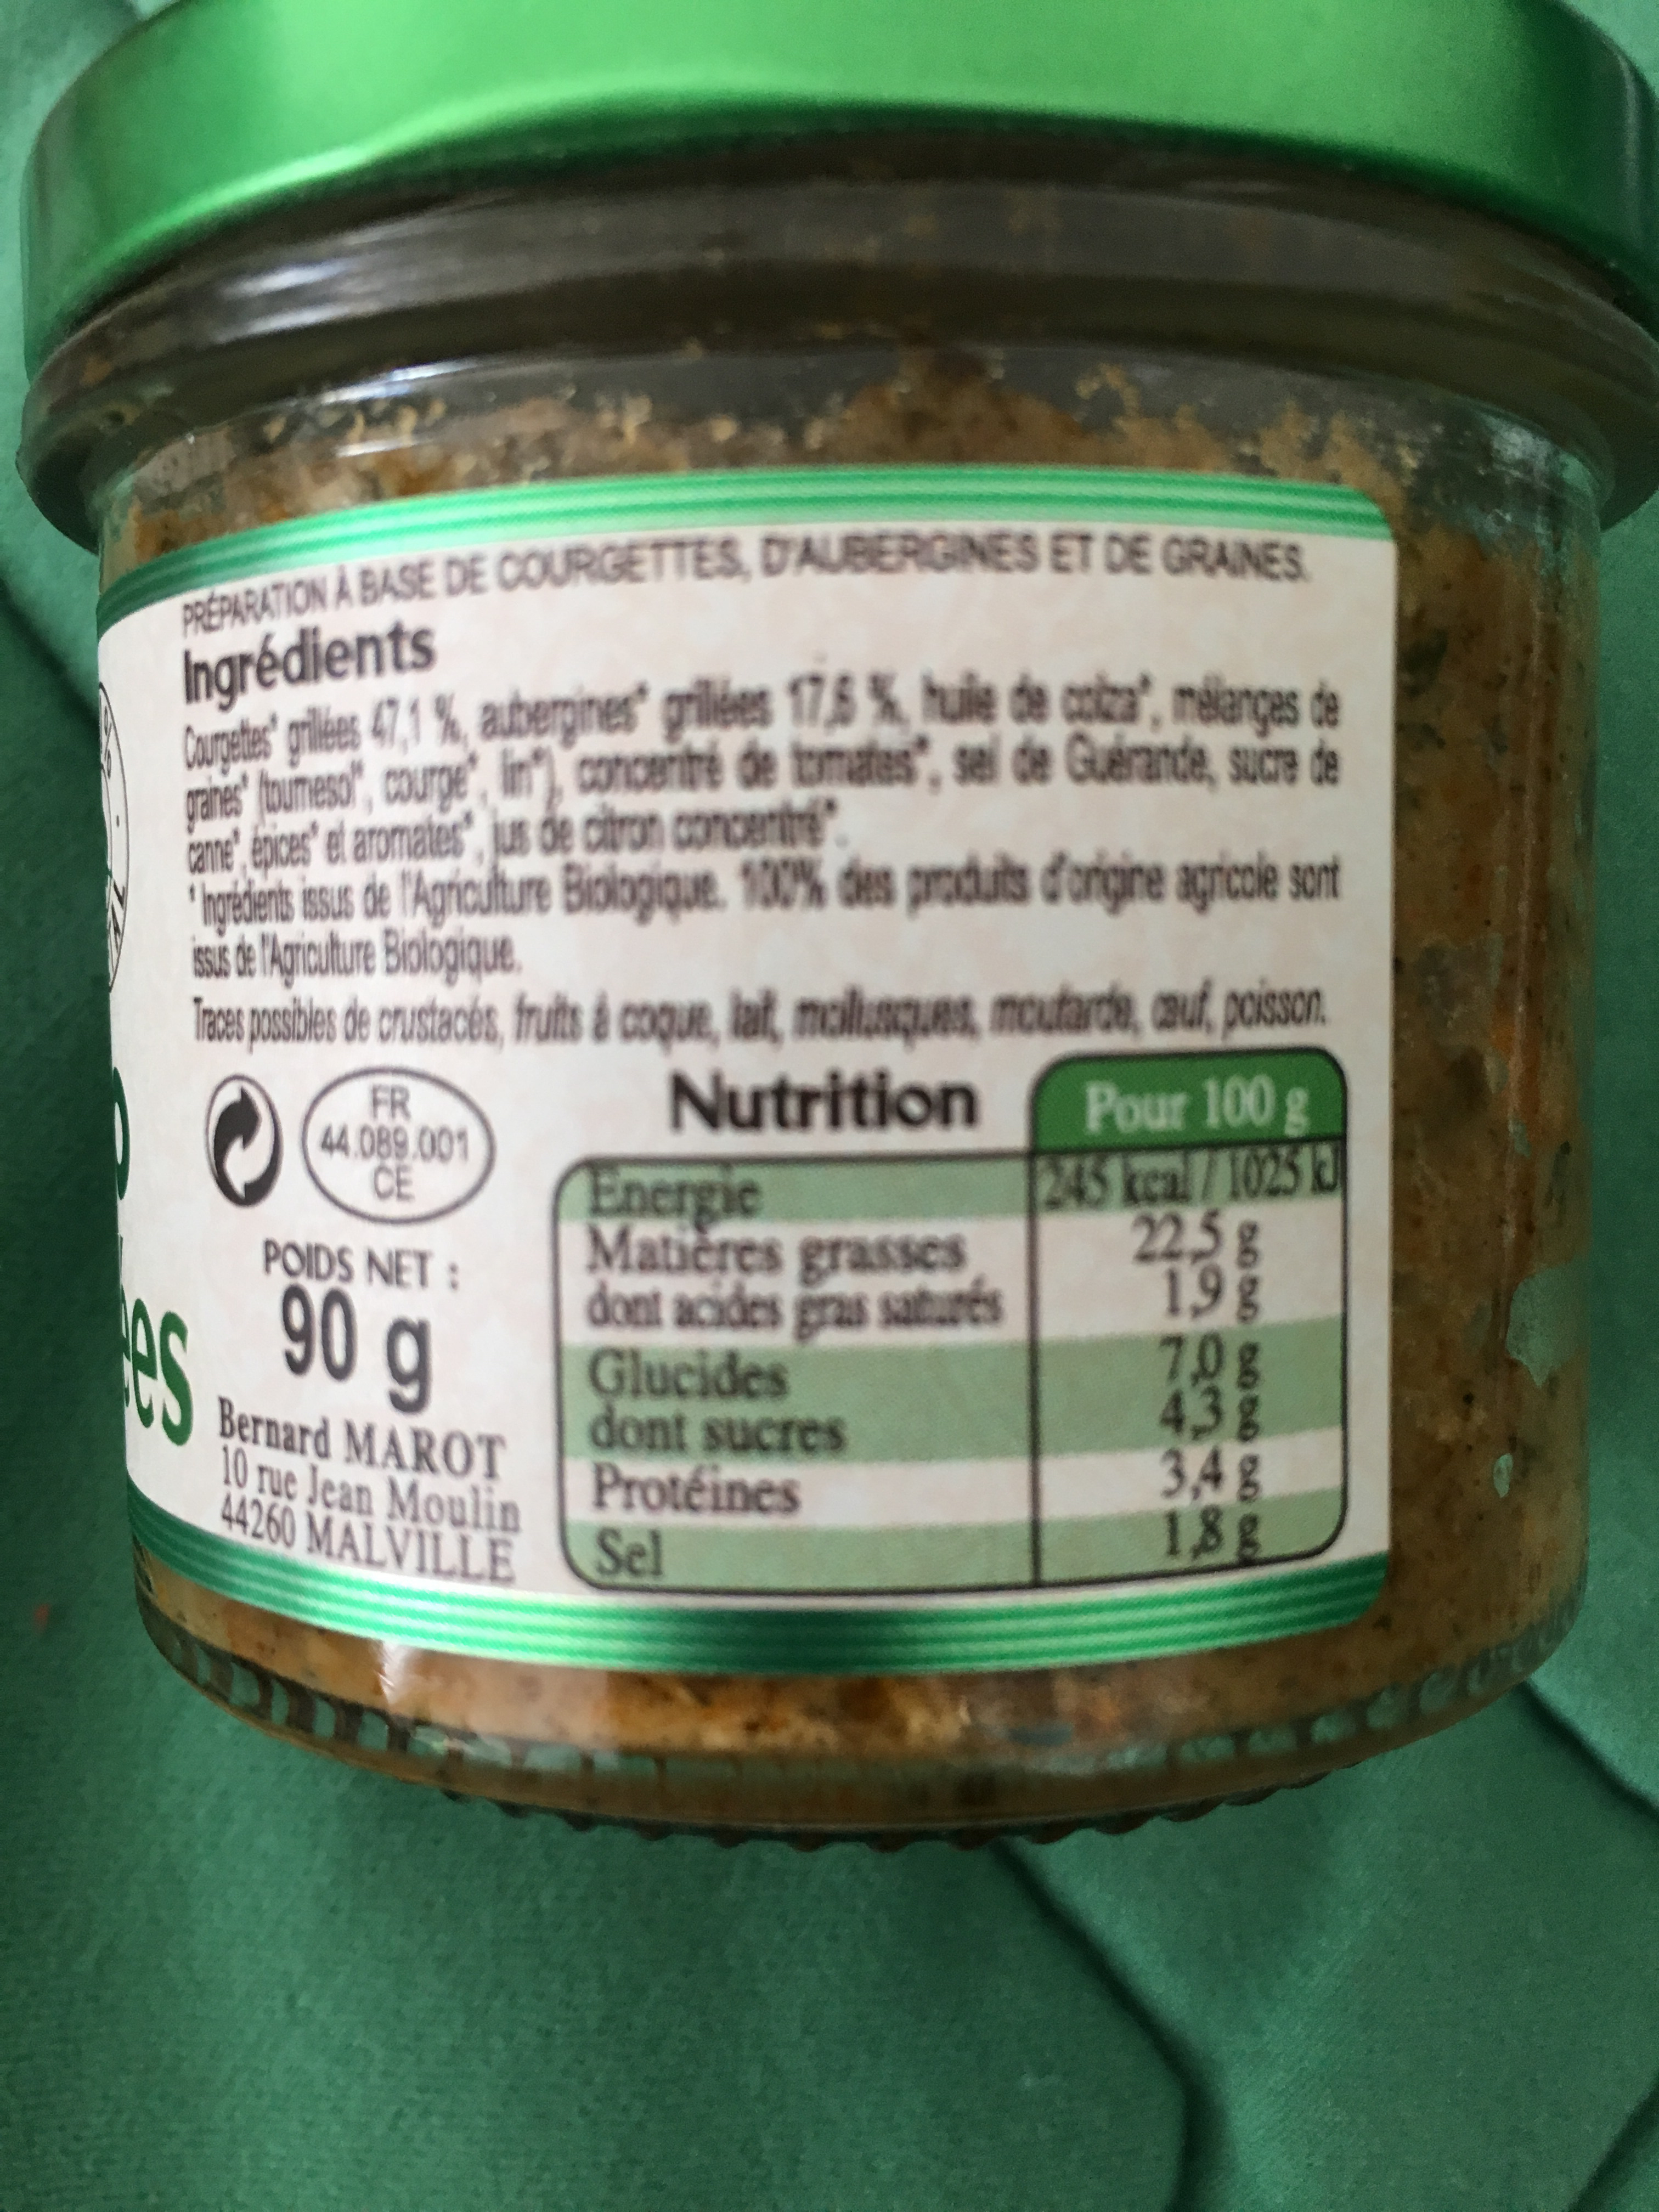column: (580, 1165, 1002, 1592), (1046, 1146, 1345, 1559)
table: (549, 1141, 1377, 1592)
